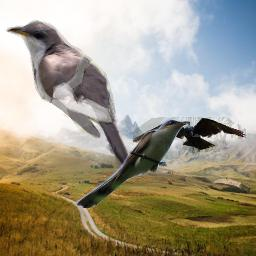Crow: (133, 117, 246, 156)
Cuckoo: (4, 18, 133, 172), (76, 118, 190, 208)
